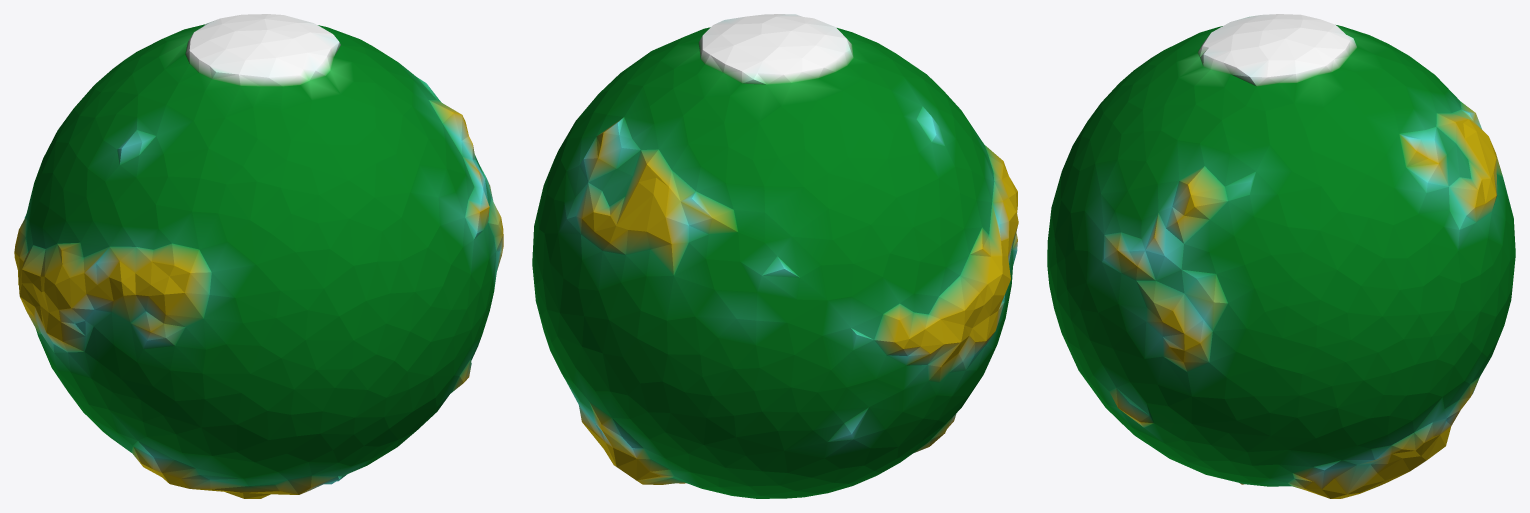
Rendered from planet_24.fbx.
The picture shows the model from 3 angles, left to right: view 1: azimuth 30°, elevation 25°; view 2: azimuth 150°, elevation 25°; view 3: azimuth 270°, elevation 25°; orthographic projection. The views are drawn at different scales.
Visible parts, largest first — view 1: file1; view 2: file1; view 3: file1.
Boxes of the visible parts, bbox=[...] form: file1: bbox=[14, 14, 503, 498]; file1: bbox=[532, 14, 1018, 498]; file1: bbox=[1047, 14, 1515, 498].
Bounding box in the file's own units: 2.06 × 2.03 × 2.
